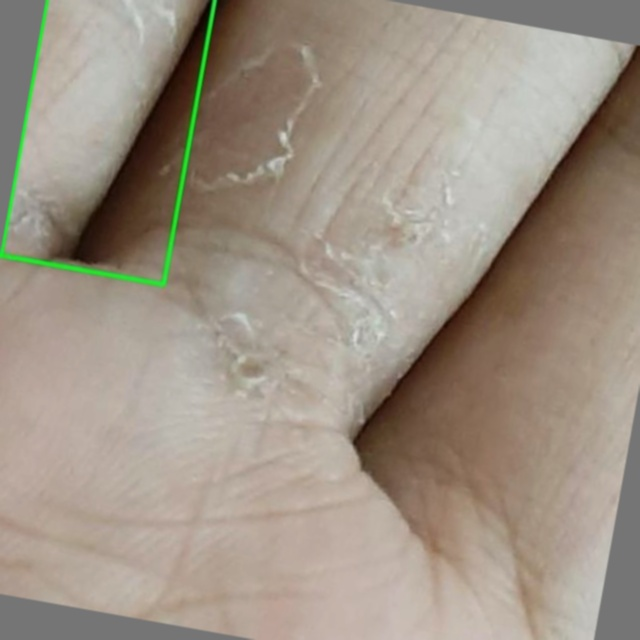Atopic Dermatitis: (0, 0, 215, 283)
